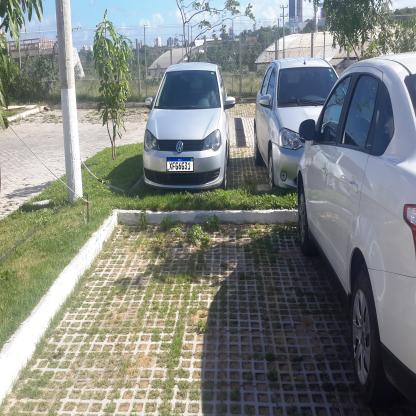PlacaM: (166, 157, 194, 172)
